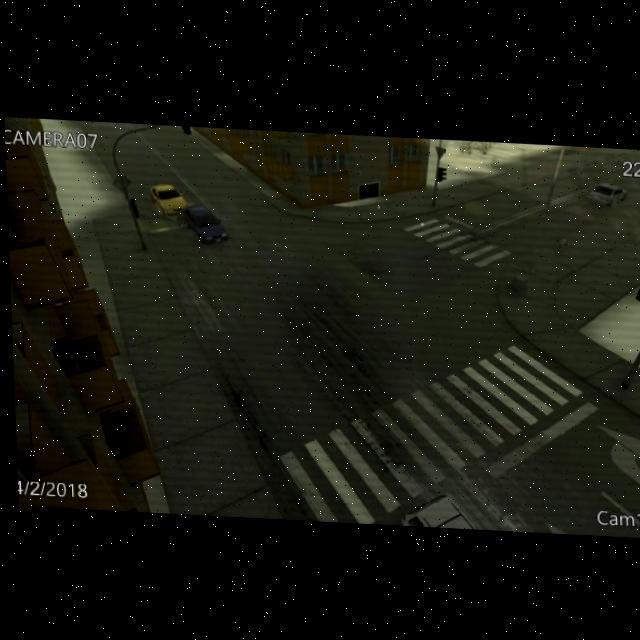normal: (107, 145, 247, 260), (568, 162, 640, 213)
